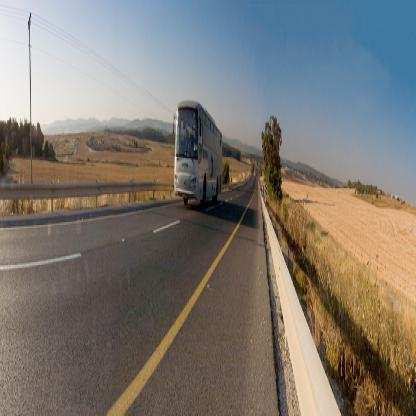Bus: (170, 94, 223, 217)
